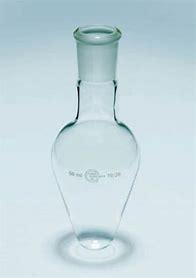Pear shaped flask: (47, 14, 141, 257)
